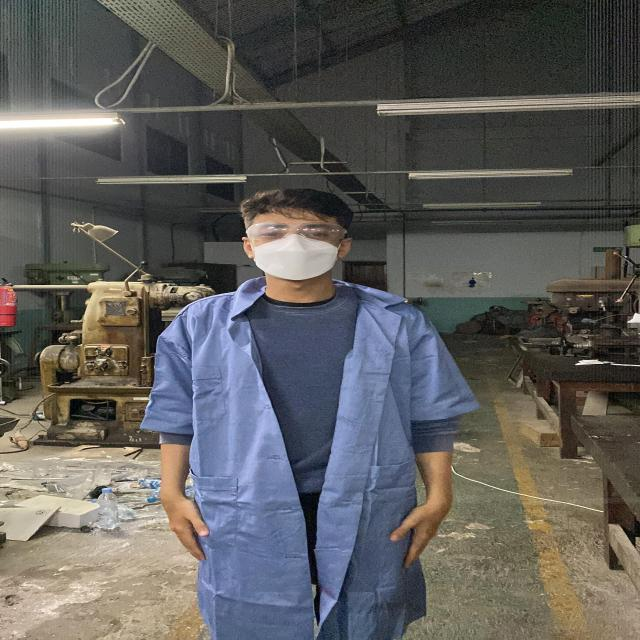face_mask: (242, 218, 351, 278)
glasses: (239, 220, 357, 243)
hand_noglove: (375, 494, 464, 572), (152, 499, 220, 566)
head_nohelmet: (241, 185, 354, 221)
person: (133, 182, 483, 640)
